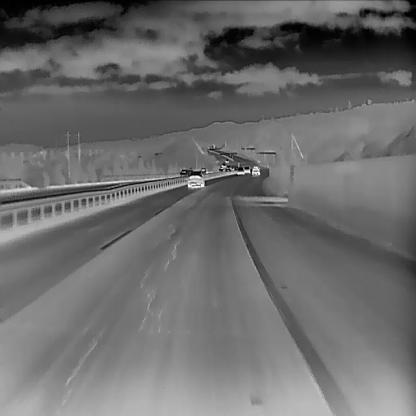car: (186, 169, 204, 188), (178, 167, 193, 179), (236, 164, 244, 175), (251, 165, 259, 175), (242, 164, 249, 173)
